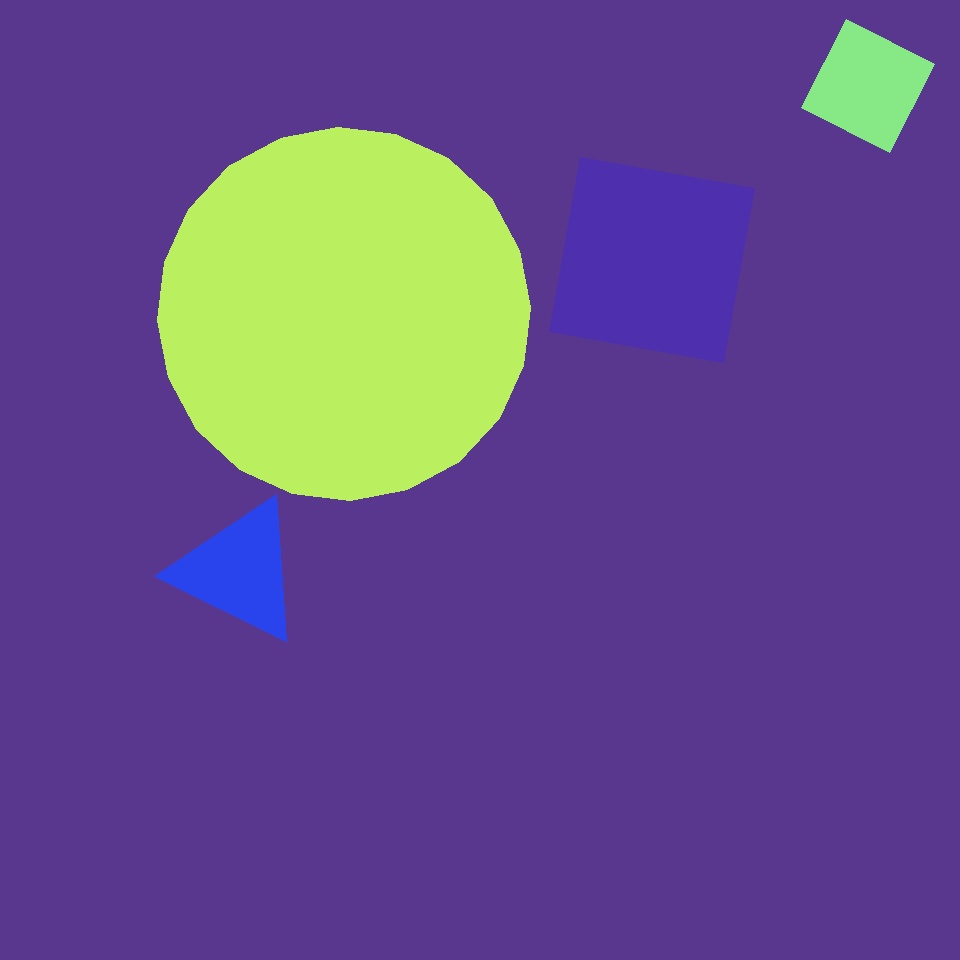circle: (173, 498, 305, 644)
square: (671, 496, 888, 713), (550, 158, 755, 362), (802, 19, 934, 153)
triangle: (158, 128, 530, 500), (498, 153, 773, 427)
